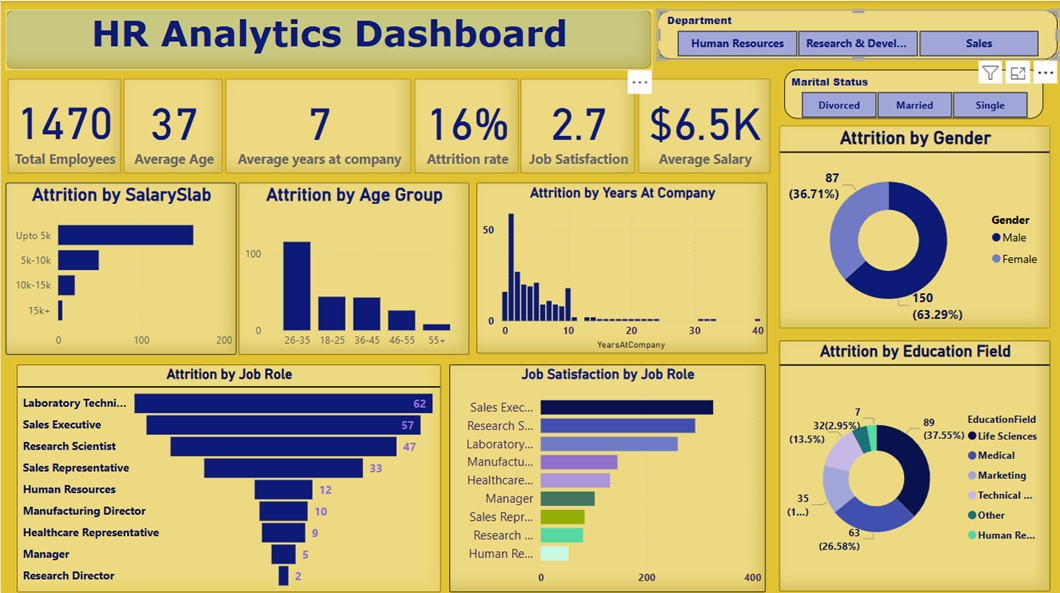

Layout of this report page (visuals, bound fields, positions):
{"tool":"powerbi","page":{"name":"Page 1","canvas":[1280,720],"ordinal":0},"visuals":[{"type":"card","fields":{"Values":["HR_Analytics.No. of employees"]},"box":[7.9,93.8,136.7,114.4],"z":0},{"type":"card","fields":{"Values":["HR_Analytics.Attrition rate"]},"box":[499.1,93.8,125.6,114.4],"z":1000},{"type":"card","fields":{"Values":["HR_Analytics.Average Age"]},"box":[147.8,93.8,119.2,114.4],"z":2000},{"type":"card","fields":{"Values":["HR_Analytics.Average years at company"]},"box":[271.8,93.8,224.1,114.4],"z":3000},{"type":"donutChart","title":"Attrition by Gender","fields":{"Category":["HR_Analytics.Gender"],"Y":["HR_Analytics.No. of attrition"]},"box":[939.3,151,327.4,244.8],"z":4000},{"type":"slicer","title":"Department","fields":{"Values":["HR_Analytics.Department"]},"box":[793.1,11.1,483.2,60.4],"z":5000},{"type":"clusteredBarChart","title":"Attrition by SalarySlab","fields":{"Category":["HR_Analytics.SalarySlab"],"Y":["HR_Analytics.No. of attrition"]},"box":[6.4,219.3,278.1,208.2],"z":6000},{"type":"donutChart","title":"Attrition by Education Field","fields":{"Category":["HR_Analytics.EducationField"],"Y":["HR_Analytics.No. of attrition"]},"box":[939.3,410.1,327.4,303.6],"z":7000},{"type":"columnChart","title":"Attrition by Age Group","fields":{"Y":["HR_Analytics.No. of attrition"],"Category":["HR_Analytics.AgeGroup"]},"box":[287.7,219.3,278.1,208.2],"z":8000},{"type":"barChart","title":"Job Satisfaction by Job Role","fields":{"Category":["HR_Analytics.JobRole"],"Y":["CountNonNull(HR_Analytics.JobSatisfaction)"]},"box":[542,438.7,381.5,275],"z":9000},{"type":"clusteredColumnChart","title":"Attrition by Years At Company","fields":{"Category":["HR_Analytics.YearsAtCompany"],"Y":["HR_Analytics.No. of attrition"]},"box":[573.8,219.3,351.3,206.6],"z":10000},{"type":"funnel","title":"Attrition by Job Role","fields":{"Category":["HR_Analytics.JobRole"],"Y":["HR_Analytics.No. of attrition"]},"box":[19.1,438.7,511.8,275],"z":11000},{"type":"card","fields":{"Values":["HR_Analytics.Average Salary"]},"box":[769.3,93.8,158.9,114.4],"z":12000},{"type":"card","fields":{"Values":["HR_Analytics.Avg. Job Satisfaction"]},"box":[627.8,93.8,138.3,114.4],"z":13000},{"type":"slicer","title":"Marital Status","fields":{"Values":["HR_Analytics.MaritalStatus"]},"box":[945.7,82.6,313.1,58.8],"z":14000},{"type":"textbox","box":[6.4,11.1,780.4,71.5],"z":15000}]}

Visuals, with their boxes in screenshot pixels (x1, y1, x2, y2), scaled from the page's 1280x720 canvas onto the 1060x593 screenshot:
card - HR_Analytics.No. of employees: rect(7, 77, 120, 171)
card - HR_Analytics.Attrition rate: rect(413, 77, 517, 171)
card - HR_Analytics.Average Age: rect(122, 77, 221, 171)
card - HR_Analytics.Average years at company: rect(225, 77, 411, 171)
"Attrition by Gender" donutChart: rect(778, 124, 1049, 326)
"Department" slicer: rect(657, 9, 1057, 59)
"Attrition by SalarySlab" clusteredBarChart: rect(5, 181, 236, 352)
"Attrition by Education Field" donutChart: rect(778, 338, 1049, 588)
"Attrition by Age Group" columnChart: rect(238, 181, 469, 352)
"Job Satisfaction by Job Role" barChart: rect(449, 361, 765, 588)
"Attrition by Years At Company" clusteredColumnChart: rect(475, 181, 766, 351)
"Attrition by Job Role" funnel: rect(16, 361, 440, 588)
card - HR_Analytics.Average Salary: rect(637, 77, 769, 171)
card - HR_Analytics.Avg. Job Satisfaction: rect(520, 77, 634, 171)
"Marital Status" slicer: rect(783, 68, 1042, 116)
textbox: rect(5, 9, 652, 68)
